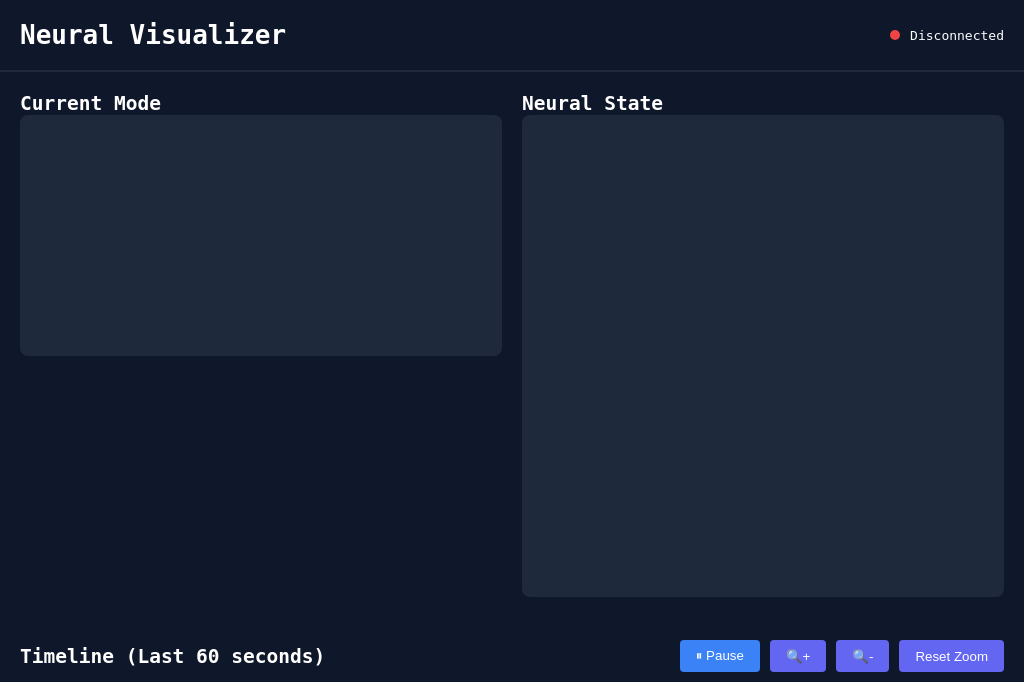
Test case: NeuralVisualizer › Timeline Controls › toggles play/pause state
The width and height of the screenshot is (1024, 682).
Click the button "⏸ Pause". click: {"x": 720, "y": 656}
box: x1=680 y1=640 x2=760 y2=672
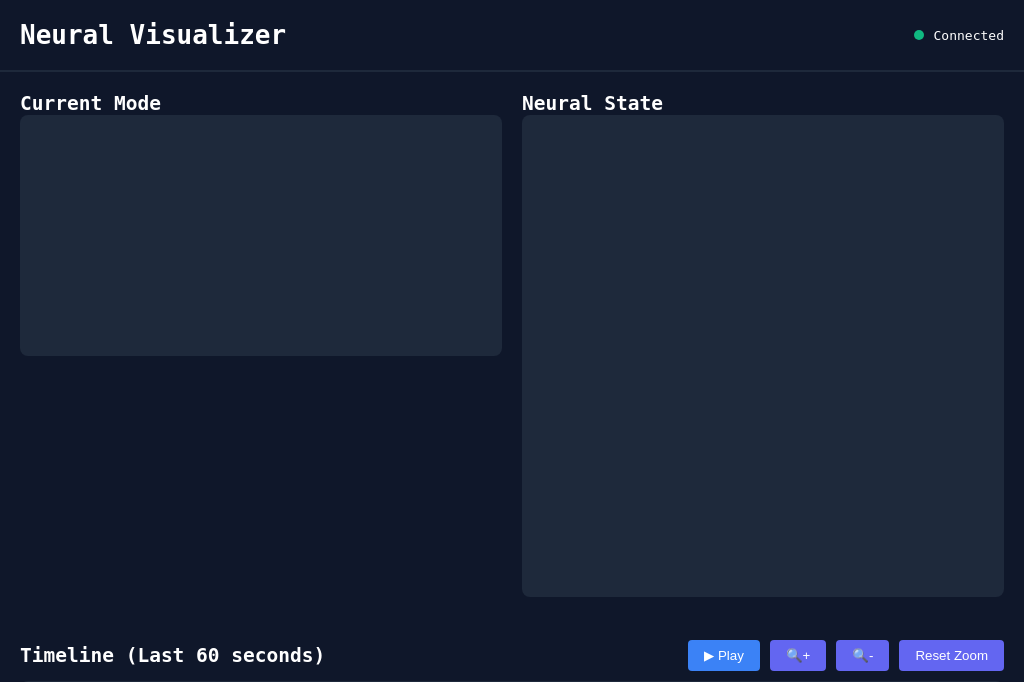
Result: the button "▶ Play" is shown at x1=688 y1=640 x2=760 y2=671
